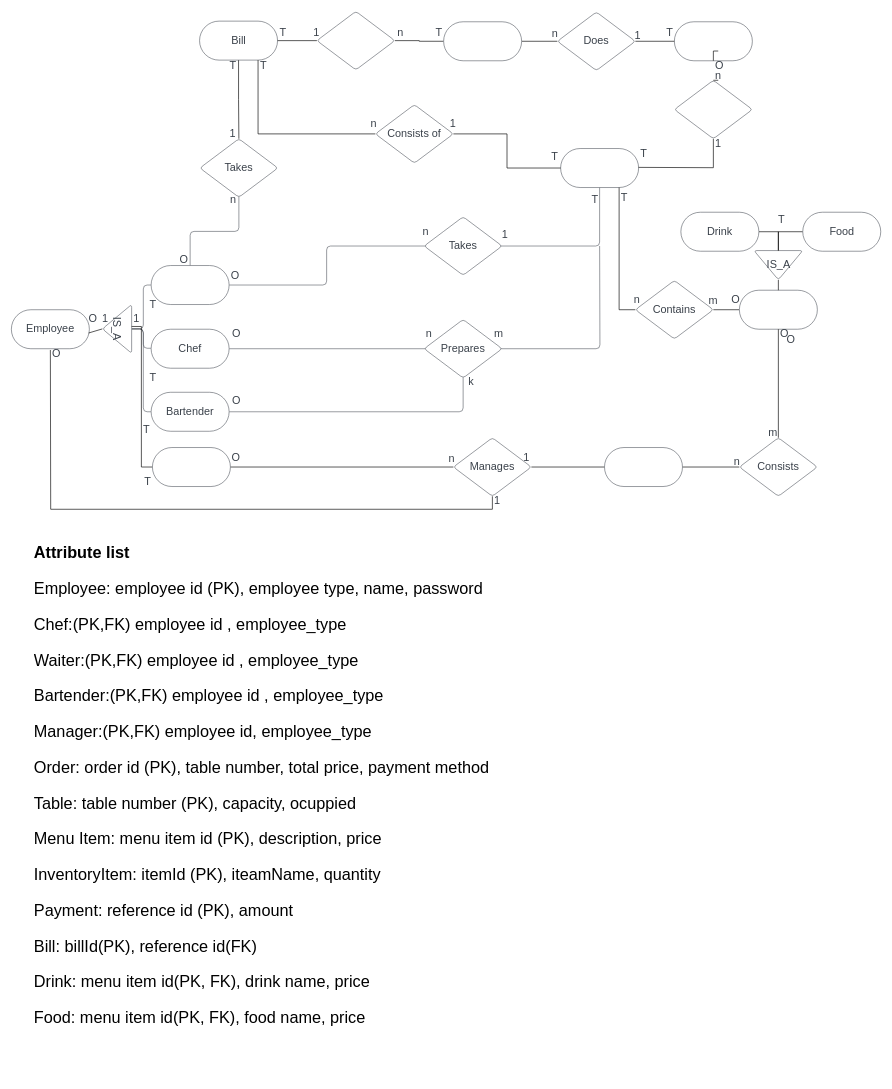
Some shapes in this 892 by 1089 pixel diagram are drawn without their labels. Here are the shapes that lost their labels. From the top down, the centre of each, then its label:
At pixel 355 40: "Pay For".
At pixel 482 41: "Payment".
At pixel 713 41: "Table".
At pixel 713 109: "Belongs".
At pixel 599 167: "Order".
At pixel 190 284: "Waiter".
At pixel 778 309: "MenuItem".
At pixel 191 466: "Manager".
At pixel 643 466: "InventoryItem".
